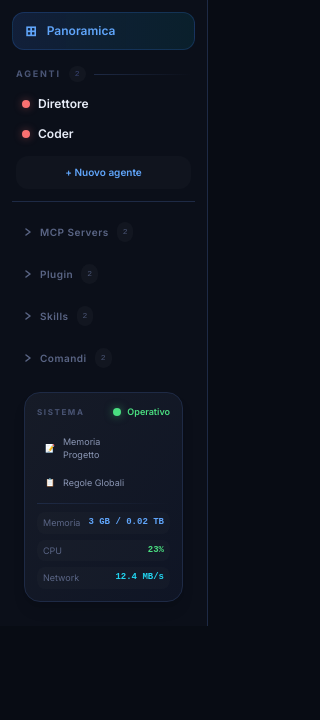
Scenario: Sidebar › mostra comandi quando espanso
What coordinates should you click on to do the following:
click the text "Comandi"
I would click on:
 (63, 358)
Its box is x1=40 y1=350 x2=87 y2=366.
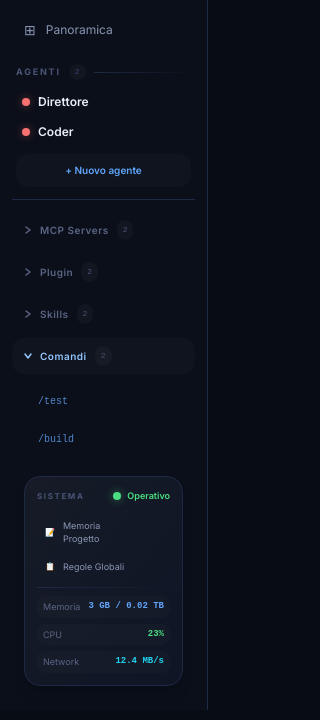
Result: the text "/test" is shown at x1=38 y1=396 x2=68 y2=407
Result: the text "/build" is shown at x1=38 y1=434 x2=74 y2=445
